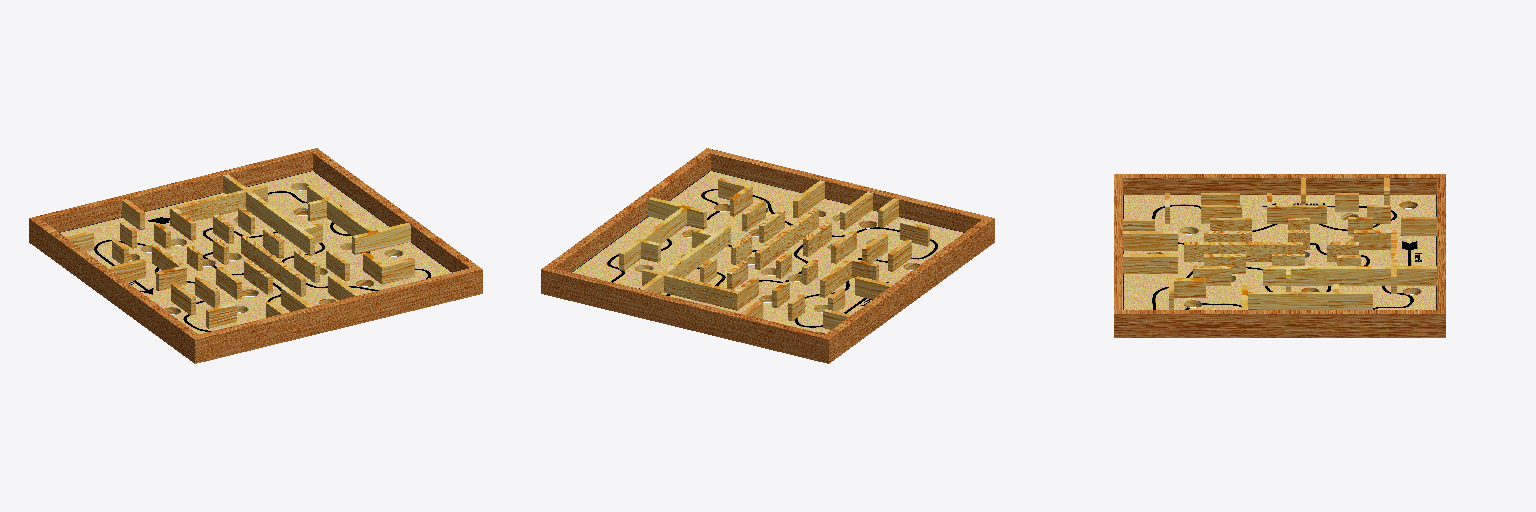
The picture shows the model from 3 angles: view 1: azimuth 30°, elevation 25°; view 2: azimuth 150°, elevation 25°; view 3: azimuth 270°, elevation 25°; orthographic projection.
Visible parts, largest first — view 1: LabyrinthMaze.obj; view 2: LabyrinthMaze.obj; view 3: LabyrinthMaze.obj.
Part boxes in pixels (x1,y1,x2,y2): LabyrinthMaze.obj: (29,148,482,363); LabyrinthMaze.obj: (541,148,994,363); LabyrinthMaze.obj: (1114,174,1445,337).
Size of the model in its own units: 8.8 by 0.7035 by 8.8.
Materials: 5 (3 with a texture image).